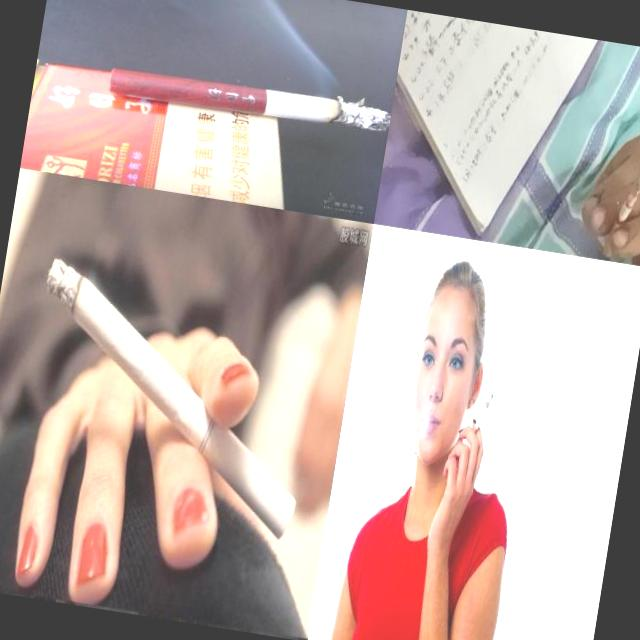smoke: (12, 257, 328, 542), (108, 64, 392, 138), (601, 159, 640, 262), (469, 390, 495, 443)
